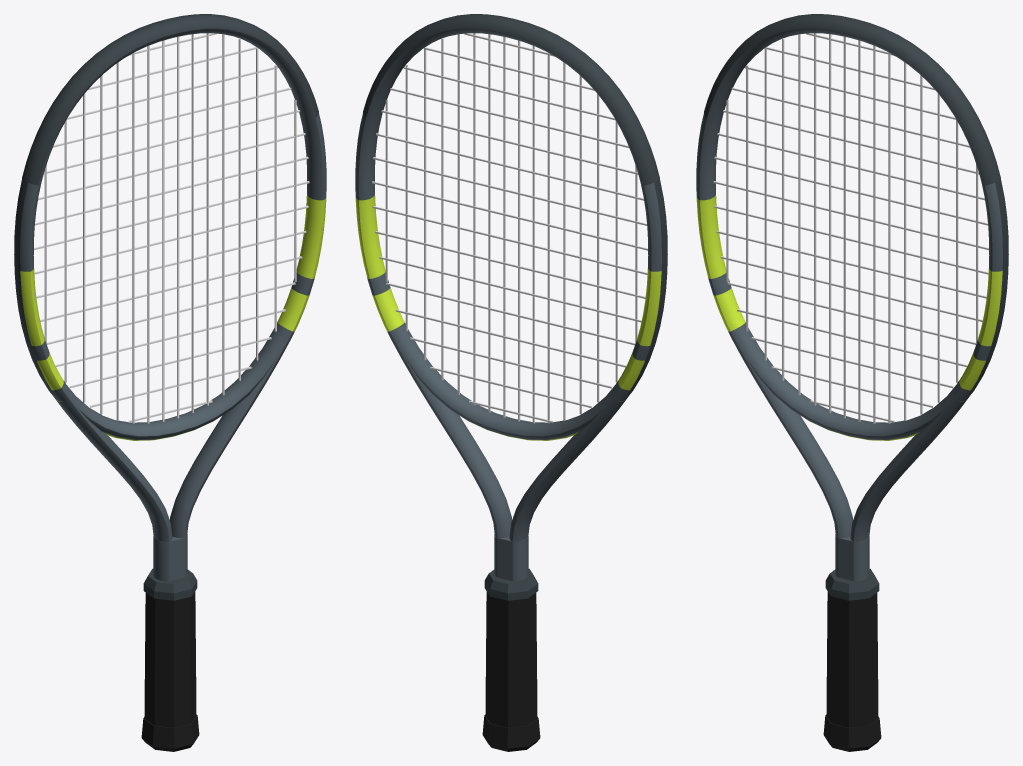
File: babolat-carlitos-junior-23.glb
3 views of the same model, side by side, from view 1: azimuth 30°, elevation 25°; view 2: azimuth 150°, elevation 25°; view 3: azimuth 330°, elevation 25° (orthographic).
Visible parts, largest first — view 1: frame, strings_mains, strings_crosses, grip, bumper, butt_cap, grommets, collar; view 2: frame, strings_mains, strings_crosses, grip, bumper, butt_cap, grommets, collar; view 3: frame, strings_mains, strings_crosses, grip, bumper, butt_cap, grommets, collar.
Boxes of the visible parts, box(x1,y1,x2,y2) form: frame: box(20, 28, 326, 581); strings_mains: box(44, 33, 296, 423); strings_crosses: box(34, 33, 309, 422); grip: box(144, 591, 196, 727); bumper: box(22, 14, 318, 185); butt_cap: box(141, 715, 199, 751); grommets: box(14, 179, 53, 394); collar: box(143, 568, 197, 600); frame: box(355, 28, 661, 581); strings_mains: box(385, 33, 637, 423); strings_crosses: box(372, 33, 647, 423); grip: box(485, 591, 537, 727); bumper: box(363, 14, 659, 185); butt_cap: box(482, 715, 540, 751); grommets: box(628, 179, 667, 394); collar: box(484, 568, 538, 600); frame: box(696, 28, 1002, 581); strings_mains: box(726, 33, 978, 423); strings_crosses: box(713, 33, 988, 422); grip: box(826, 591, 878, 727); bumper: box(704, 14, 1000, 185); butt_cap: box(823, 715, 881, 751); grommets: box(969, 179, 1008, 394); collar: box(825, 568, 879, 600).
Bounding box in the file's own units: 0.2617 × 0.5845 × 0.0396.
